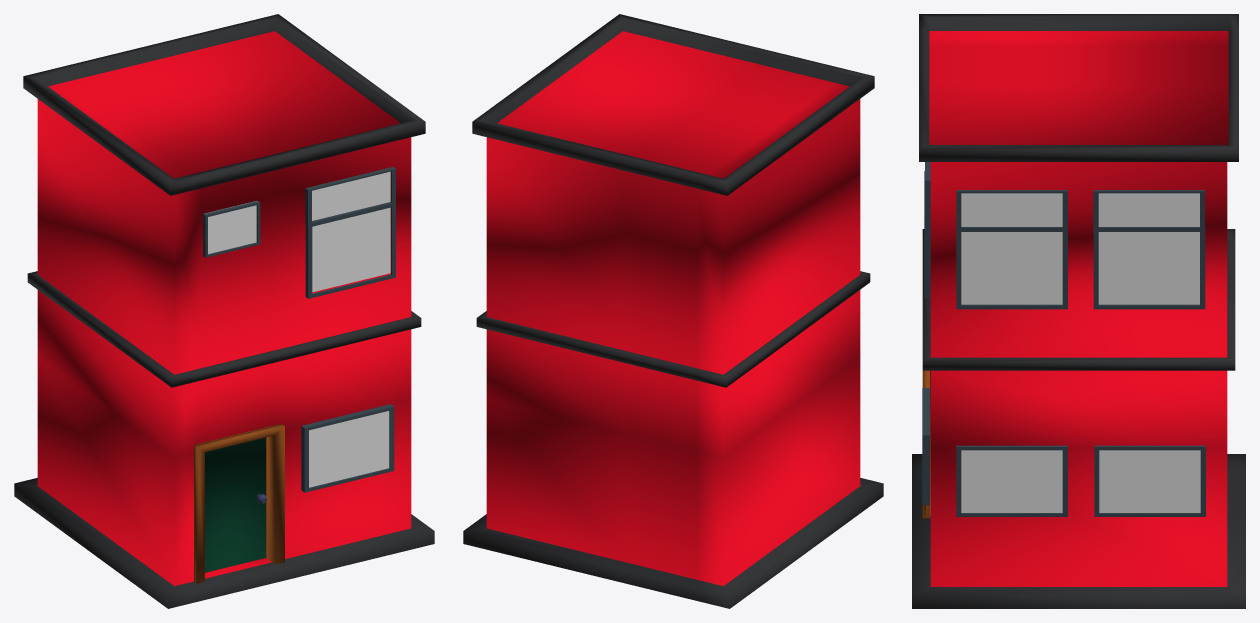
File: building.gltf
3 renders of one model, left to right at view 1: azimuth 30°, elevation 25°; view 2: azimuth 150°, elevation 25°; view 3: azimuth 270°, elevation 25°, orthographic. The views are drawn at different scales.
Parts seen in each view (by area): view 1: Cube, Plane001_4, Plane001, Plane001_6, Plane001_1, Plane001_1_6, Plane001_1_5, Plane001_1_9; view 2: Cube; view 3: Cube, Plane001_3, Plane001_5, Plane001_1 (×2), Plane001_2, Plane001_1_3, Plane001_1_8, Plane001_1_1, Plane001_1_2, Plane001_1_7, Plane001_1_4, Plane001_1_6.
Part boxes in pixels (x1,y1,x2,y2): Cube: [14, 14, 434, 608]; Plane001_4: [312, 171, 390, 292]; Plane001: [309, 411, 389, 487]; Plane001_6: [205, 201, 256, 254]; Plane001_1: [301, 404, 394, 492]; Plane001_1_6: [305, 201, 395, 298]; Plane001_1_5: [305, 166, 395, 224]; Plane001_1_9: [203, 200, 260, 257]; Cube: [463, 14, 883, 608]; Cube: [912, 14, 1245, 608]; Plane001_3: [961, 193, 1062, 304]; Plane001_5: [1098, 193, 1199, 304]; Plane001_1 (×2): [922, 388, 1062, 512]; Plane001_2: [1099, 450, 1200, 512]; Plane001_1_3: [956, 228, 1067, 309]; Plane001_1_8: [1093, 227, 1205, 309]; Plane001_1_1: [956, 445, 1067, 516]; Plane001_1_2: [1094, 445, 1205, 516]; Plane001_1_7: [1093, 190, 1204, 229]; Plane001_1_4: [956, 190, 1067, 229]; Plane001_1_6: [924, 171, 930, 298].
Size of the model in its own units: 8.66 by 13.08 by 8.66.
